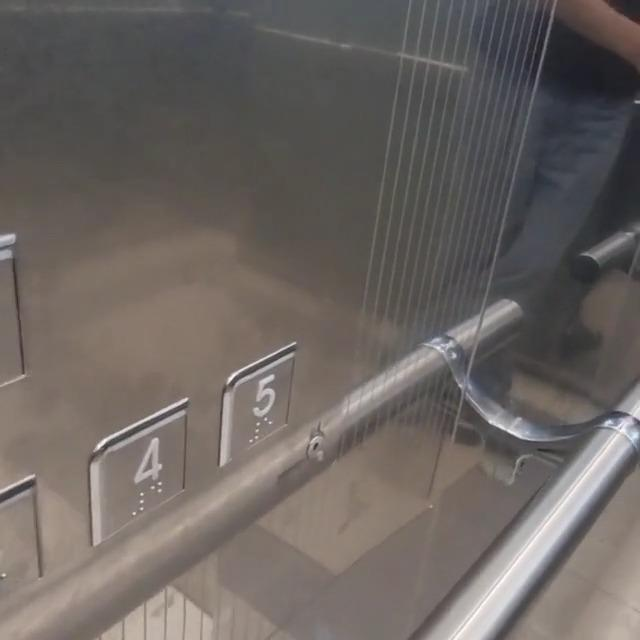button: (97, 429, 192, 522), (218, 372, 283, 452)
